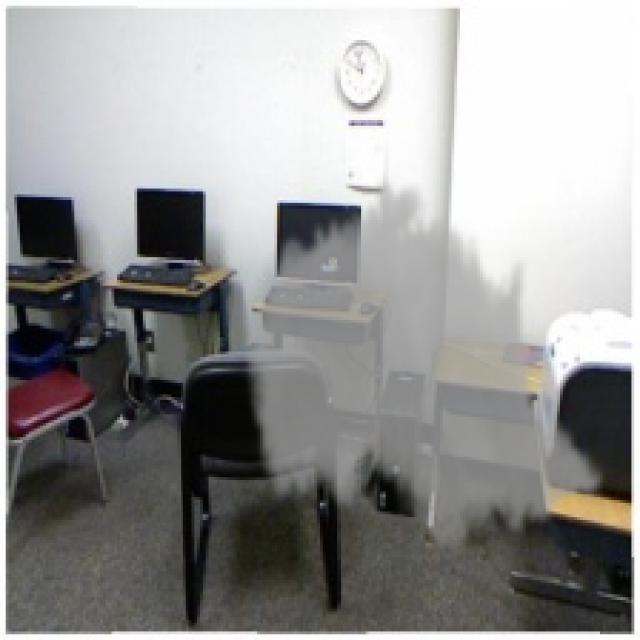Smoke: (240, 171, 606, 563)
